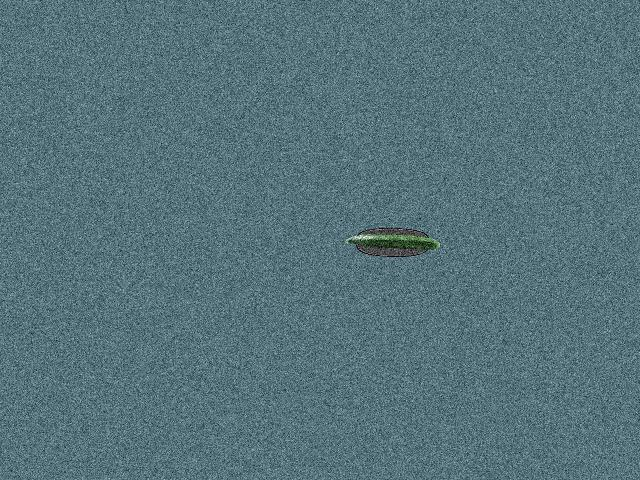cucumber: (344, 235, 439, 250)
